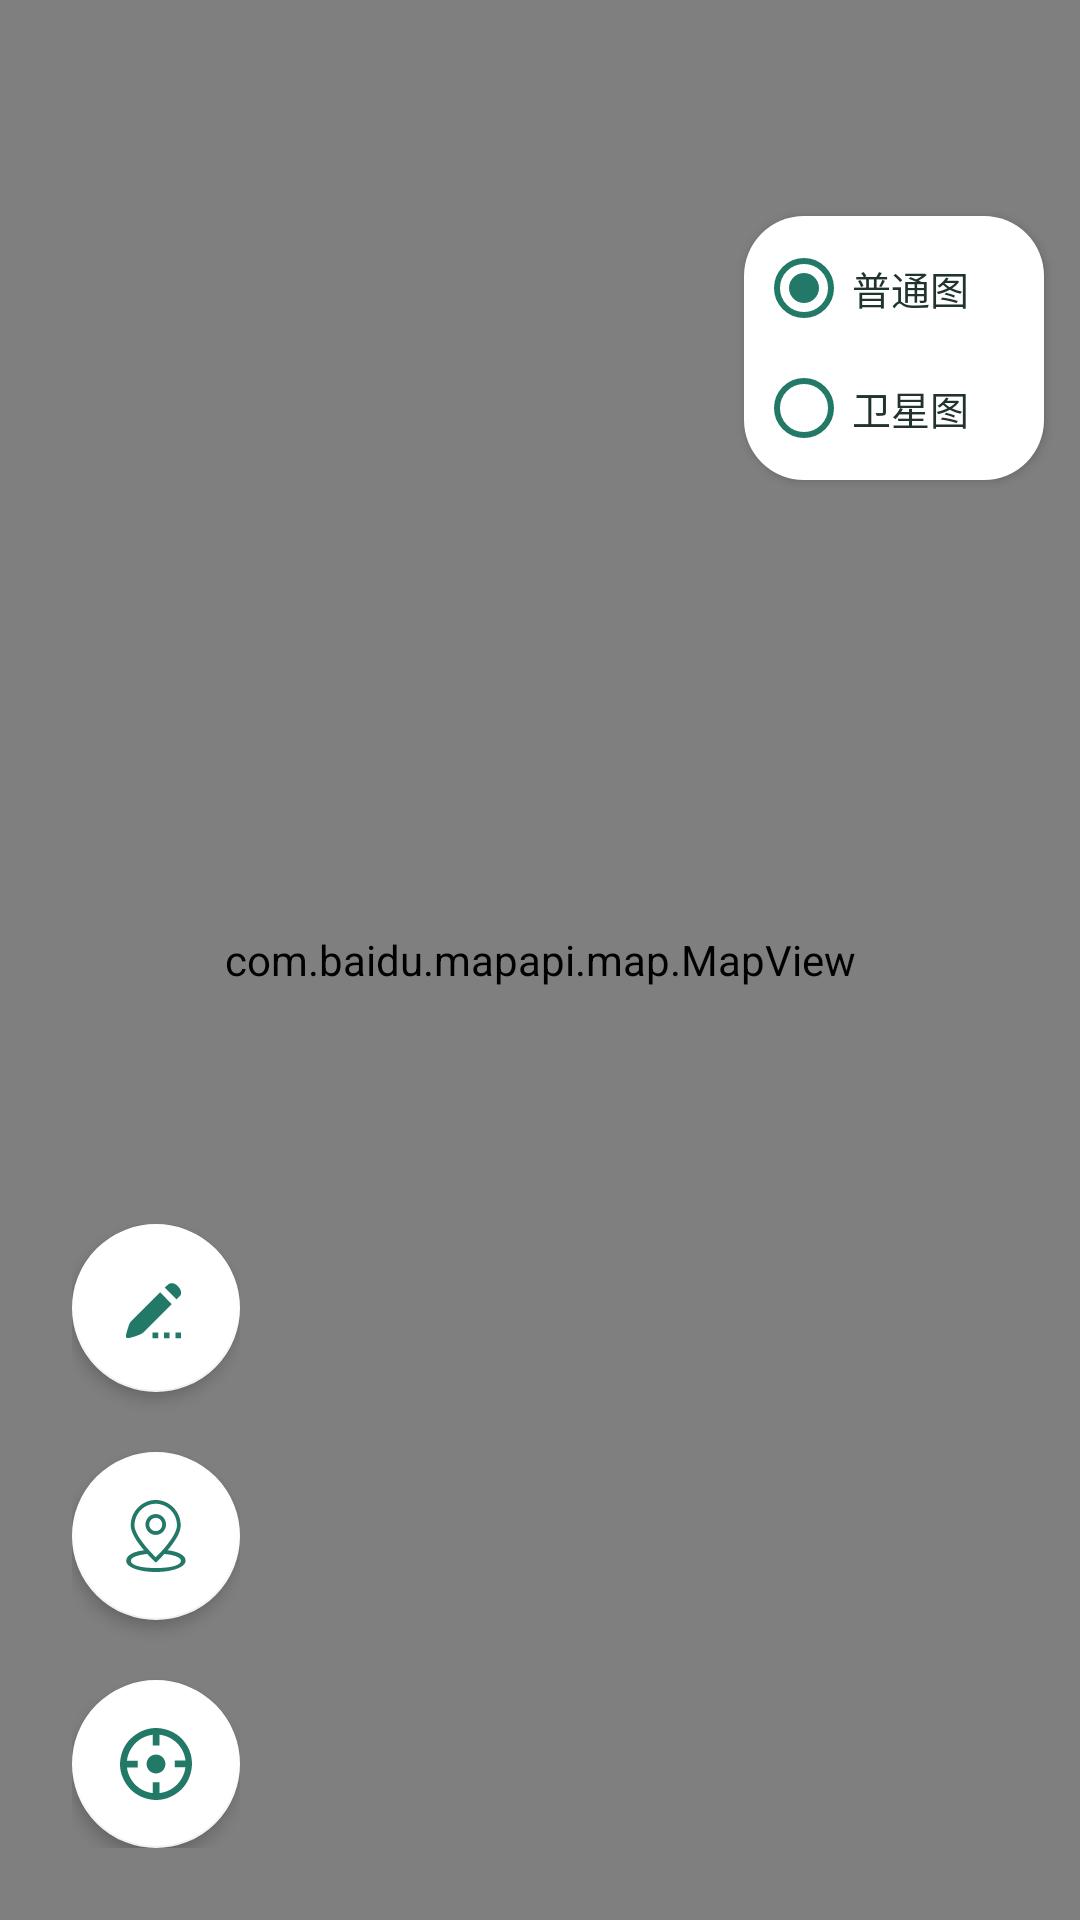

Where icons sit on this 1080 × 1920 app screen, as (x1, y1, x2, y2):
回到当前位置: (72, 1680, 240, 1848)
开始或停止模拟定位: (72, 1452, 240, 1620)
输入坐标: (72, 1224, 240, 1392)
